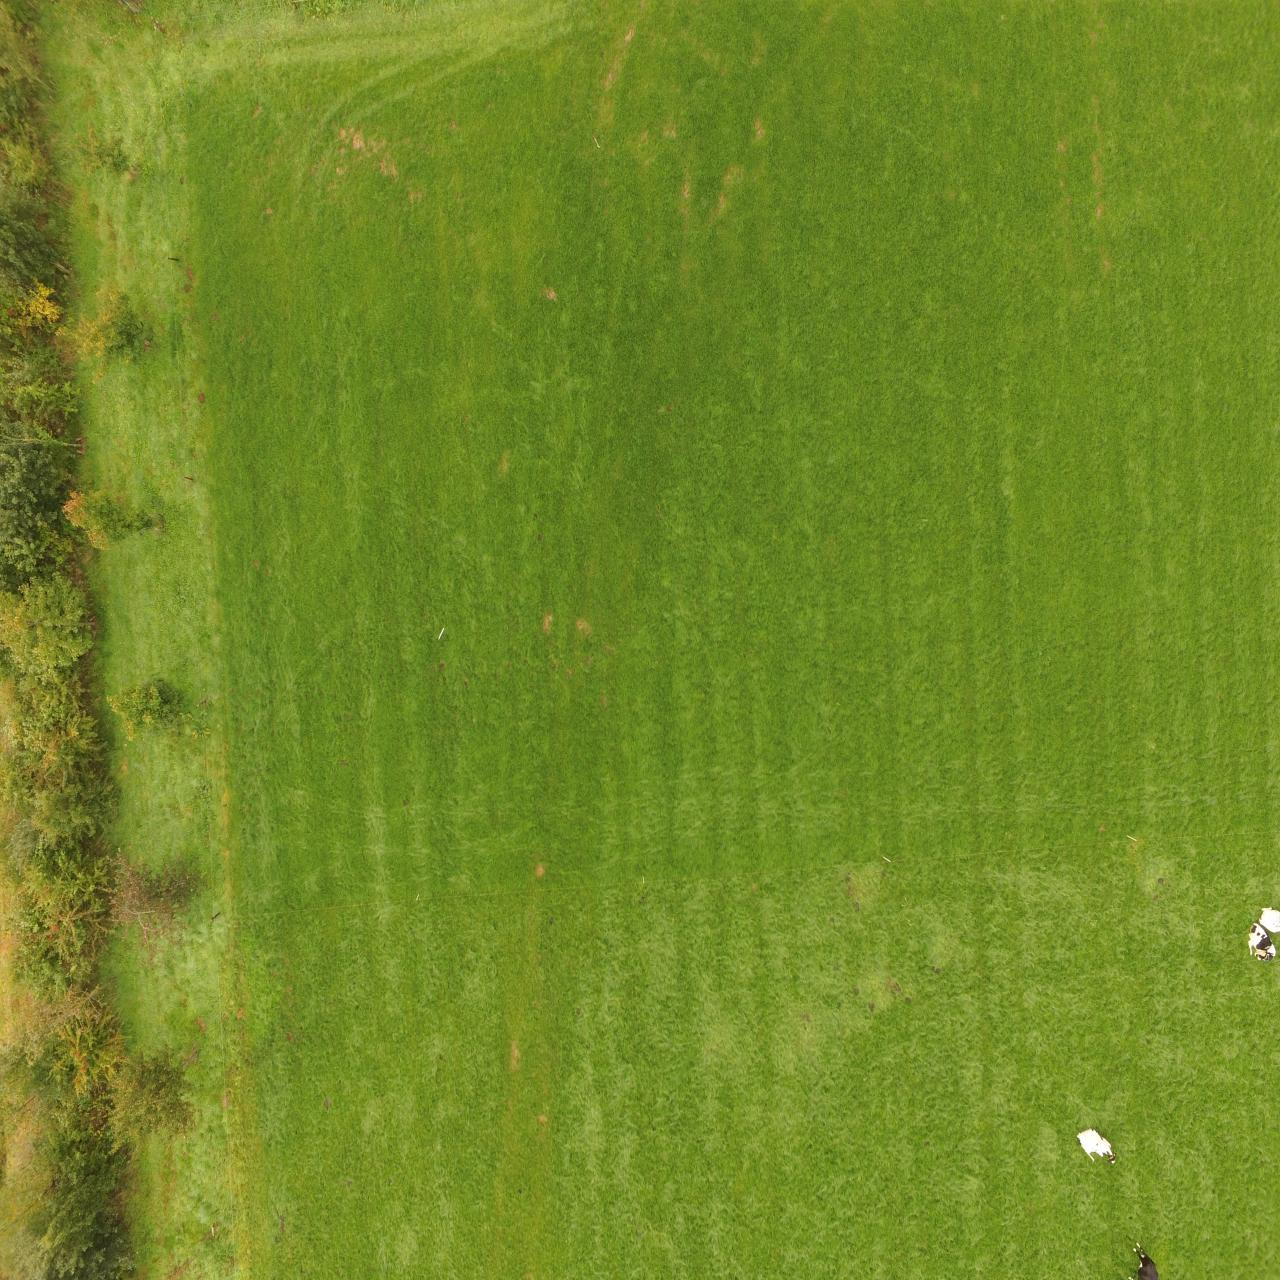cow: (1245, 903, 1278, 965), (1074, 1123, 1117, 1167), (1132, 1242, 1163, 1280)
